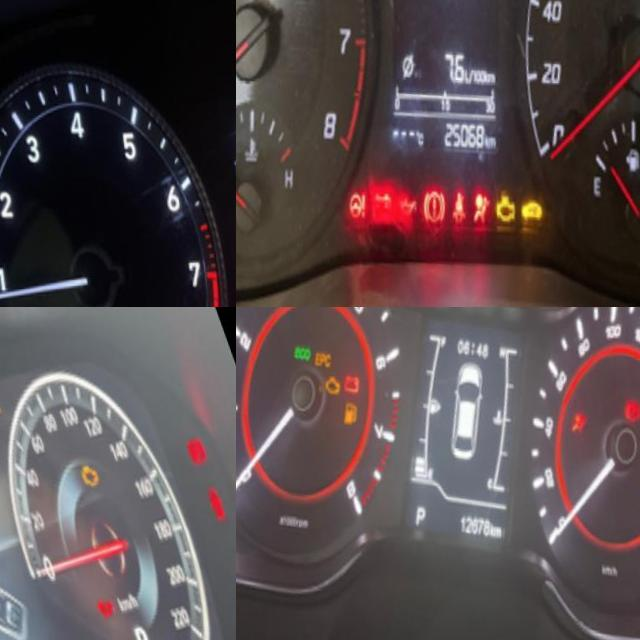Doors: (198, 488, 226, 534)
Low fuel level: (332, 401, 357, 432)
security: (506, 198, 534, 231)
